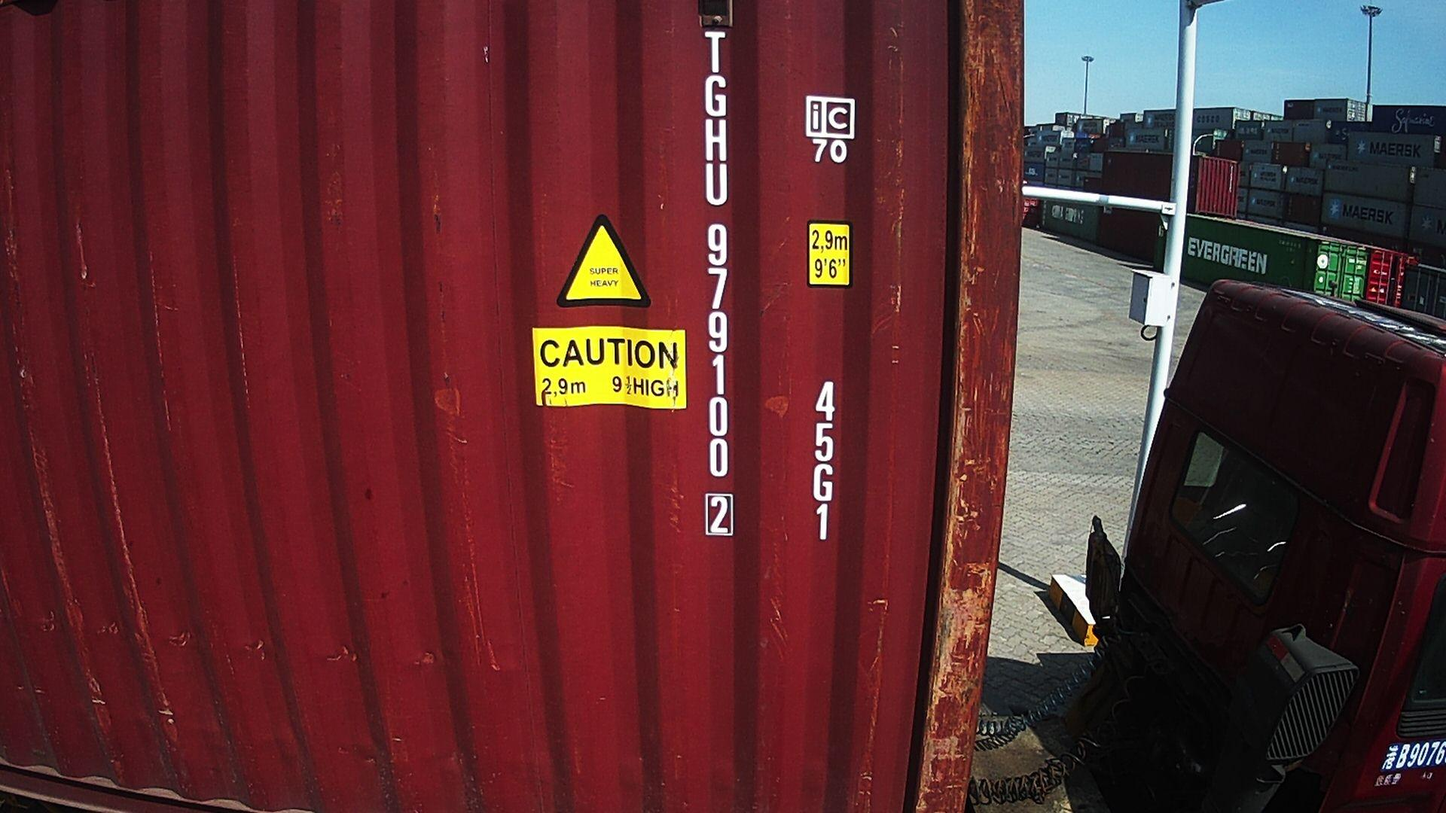container-numbers: (693, 25, 740, 541), (808, 376, 839, 545)
